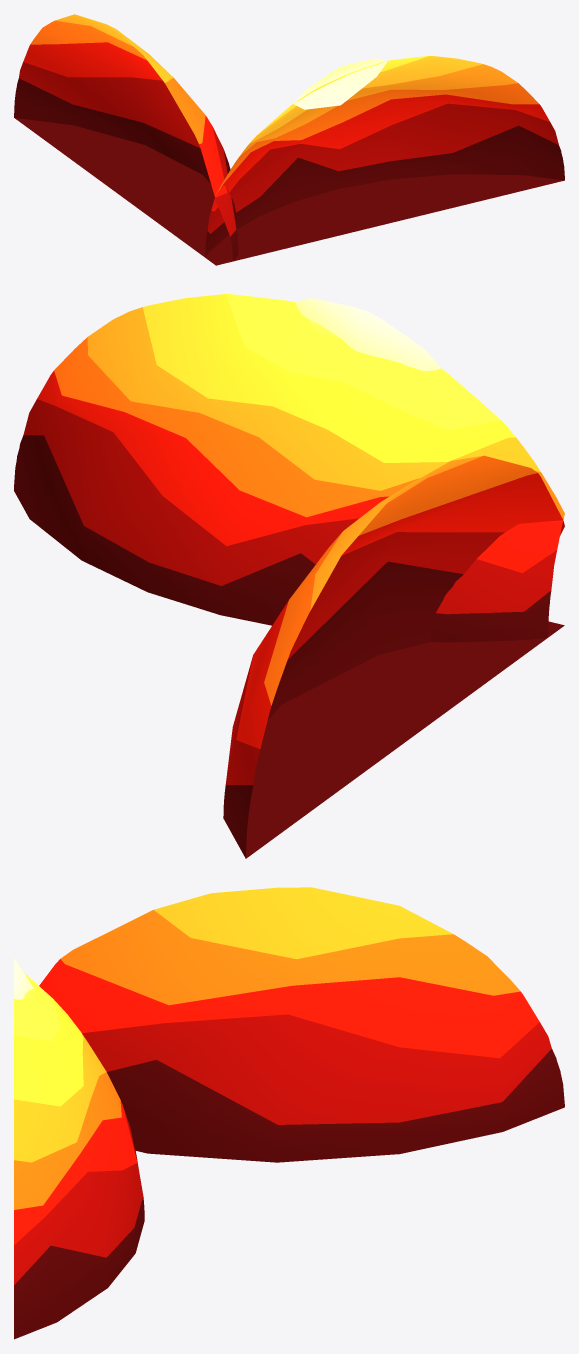
File: shot_charge_b208.glb
3 renders of one model, top to bottom at view 1: azimuth 30°, elevation 25°; view 2: azimuth 150°, elevation 25°; view 3: azimuth 270°, elevation 25°, orthographic. The views are drawn at different scales.
Parts seen in each view (by area): view 1: charge_twin6_a_fire_shot_charge_b208, charge_twin6_b_fire_shot_charge_b208, charge_twin6_a_core_shot_charge_b208; view 2: charge_twin6_a_fire_shot_charge_b208, charge_twin6_b_fire_shot_charge_b208, charge_twin6_a_core_shot_charge_b208; view 3: charge_twin6_b_fire_shot_charge_b208, charge_twin6_a_fire_shot_charge_b208.
Part boxes in pixels (bbox=[...]): charge_twin6_a_fire_shot_charge_b208: bbox=[205, 56, 564, 265]; charge_twin6_b_fire_shot_charge_b208: bbox=[14, 14, 238, 264]; charge_twin6_a_core_shot_charge_b208: bbox=[294, 58, 387, 109]; charge_twin6_a_fire_shot_charge_b208: bbox=[14, 294, 564, 642]; charge_twin6_b_fire_shot_charge_b208: bbox=[223, 455, 564, 858]; charge_twin6_a_core_shot_charge_b208: bbox=[295, 298, 440, 371]; charge_twin6_b_fire_shot_charge_b208: bbox=[39, 887, 564, 1162]; charge_twin6_a_fire_shot_charge_b208: bbox=[14, 973, 144, 1339].
Bounding box in the file's own units: 8.4 × 3.89 × 8.43.
